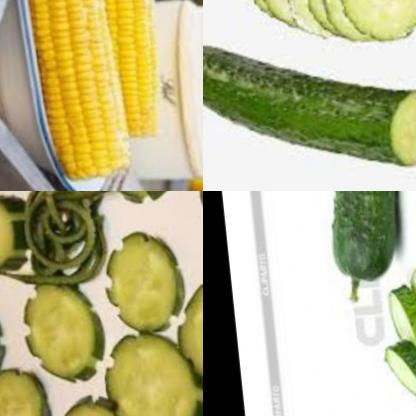corn: (22, 0, 129, 191), (83, 0, 167, 159)
cucumber: (203, 18, 416, 187), (304, 191, 407, 304), (209, 0, 413, 55), (91, 323, 203, 416), (11, 278, 103, 386), (95, 236, 188, 335), (163, 272, 203, 393), (371, 266, 416, 358), (372, 341, 416, 408), (0, 191, 26, 279), (37, 392, 118, 416), (0, 368, 39, 416)
